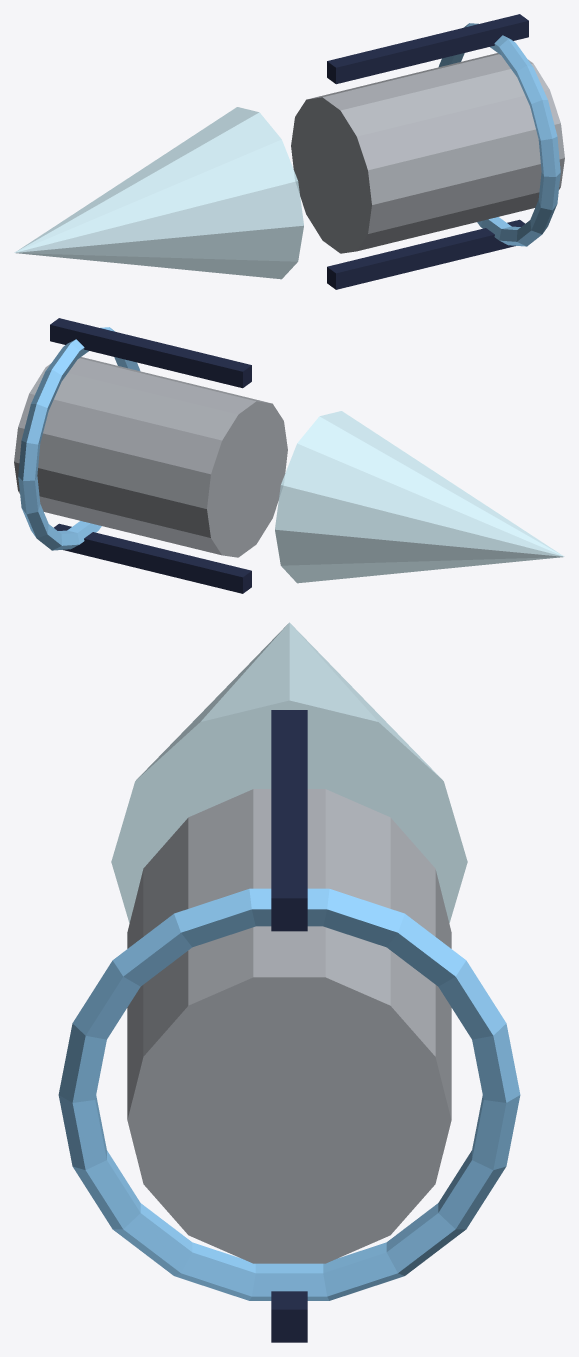
The model's file is 06_skyship_engine.glb.
3 views of the same model, one above another, from view 1: azimuth 30°, elevation 25°; view 2: azimuth 150°, elevation 25°; view 3: azimuth 270°, elevation 25° (orthographic). The views are drawn at different scales.
Visible parts, largest first — view 1: engine_core, thruster_plume, engine_ring, mount_strut_r, mount_strut_l; view 2: engine_core, thruster_plume, engine_ring, mount_strut_r, mount_strut_l; view 3: engine_core, engine_ring, thruster_plume, mount_strut_r, mount_strut_l.
Part boxes in pixels (x1,y1,x2,y2): engine_core: [291, 53, 564, 253]; thruster_plume: [14, 107, 303, 279]; engine_ring: [438, 23, 560, 246]; mount_strut_r: [327, 14, 528, 84]; mount_strut_l: [327, 219, 524, 289]; engine_core: [14, 357, 287, 557]; thruster_plume: [275, 411, 564, 583]; engine_ring: [18, 327, 140, 550]; mount_strut_r: [50, 318, 251, 388]; mount_strut_l: [54, 523, 251, 593]; engine_core: [127, 789, 451, 1263]; engine_ring: [58, 888, 520, 1300]; thruster_plume: [111, 622, 467, 923]; mount_strut_r: [271, 710, 307, 931]; mount_strut_l: [271, 1291, 307, 1342].
Size of the model in its own units: 4.07 by 1.69 by 1.6.
